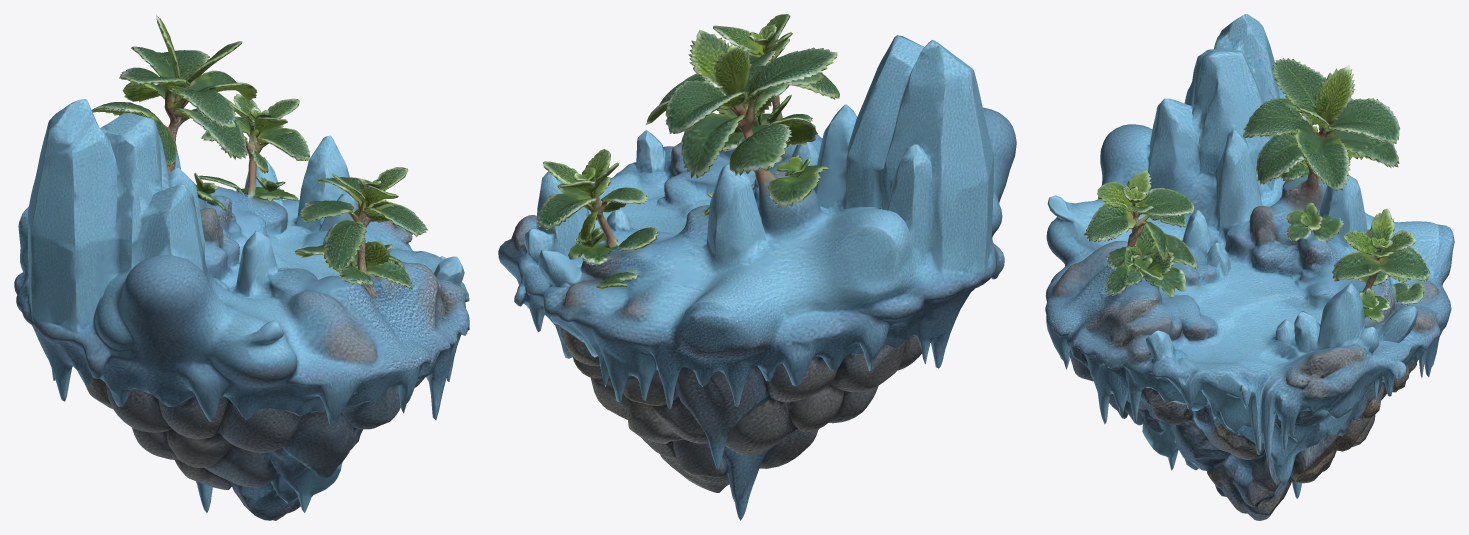
Rendered from isl-frost.glb.
3 views of the same model, side by side, from view 1: azimuth 30°, elevation 25°; view 2: azimuth 150°, elevation 25°; view 3: azimuth 270°, elevation 25° (orthographic). The views are drawn at different scales.
Visible parts, largest first — view 1: tripo_node_4d980529-ff08-48a0-92e0-6214c13481cf; view 2: tripo_node_4d980529-ff08-48a0-92e0-6214c13481cf; view 3: tripo_node_4d980529-ff08-48a0-92e0-6214c13481cf.
Part boxes in pixels (x1,y1,x2,y2): tripo_node_4d980529-ff08-48a0-92e0-6214c13481cf: [14, 14, 469, 520]; tripo_node_4d980529-ff08-48a0-92e0-6214c13481cf: [498, 14, 1016, 520]; tripo_node_4d980529-ff08-48a0-92e0-6214c13481cf: [1045, 14, 1454, 520].
Bounding box in the file's own units: 0.8833 × 0.9808 × 0.8538.
1 material, 1 textured.
